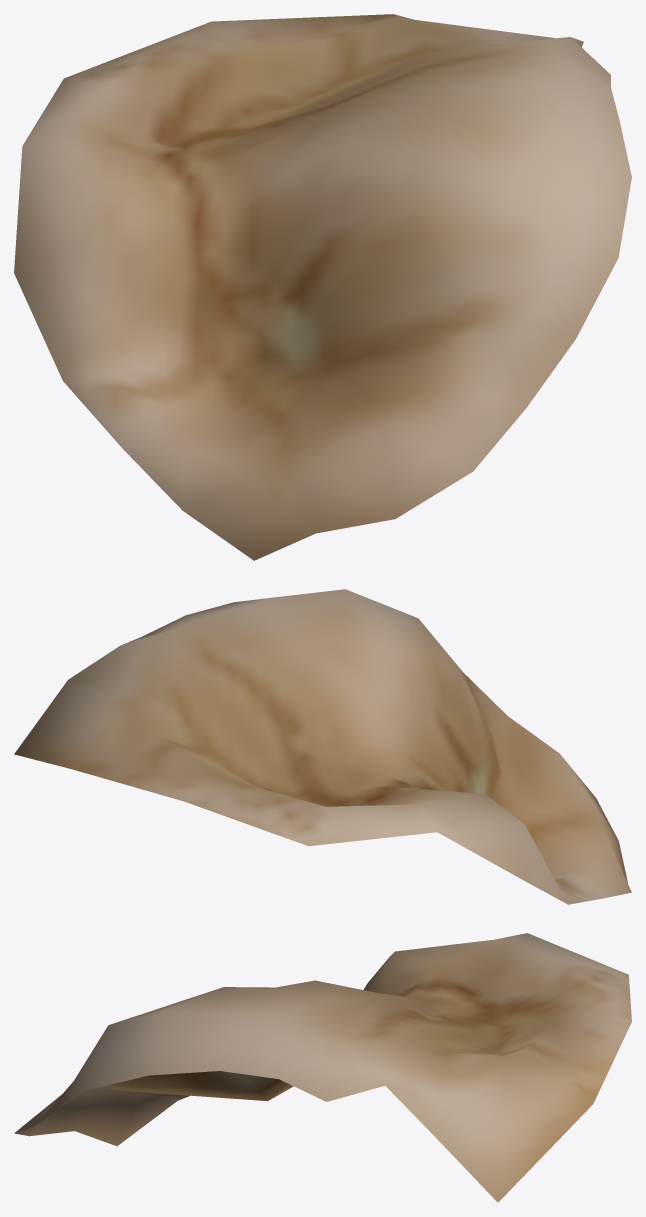
File: tooth-37.glb
The picture shows the model from 3 angles, top to bottom: view 1: azimuth 30°, elevation 25°; view 2: azimuth 150°, elevation 25°; view 3: azimuth 270°, elevation 25°; orthographic projection. The views are drawn at different scales.
Visible parts, largest first — view 1: teeth_1; view 2: teeth_1; view 3: teeth_1.
Part boxes in pixels (<box>): teeth_1: <box>14,14,631,560</box>; teeth_1: <box>14,589,631,904</box>; teeth_1: <box>14,933,631,1202</box>.
Size of the model in its own units: 0.0168 by 0.00876 by 0.0172.
Materials: 1 (1 with a texture image).
